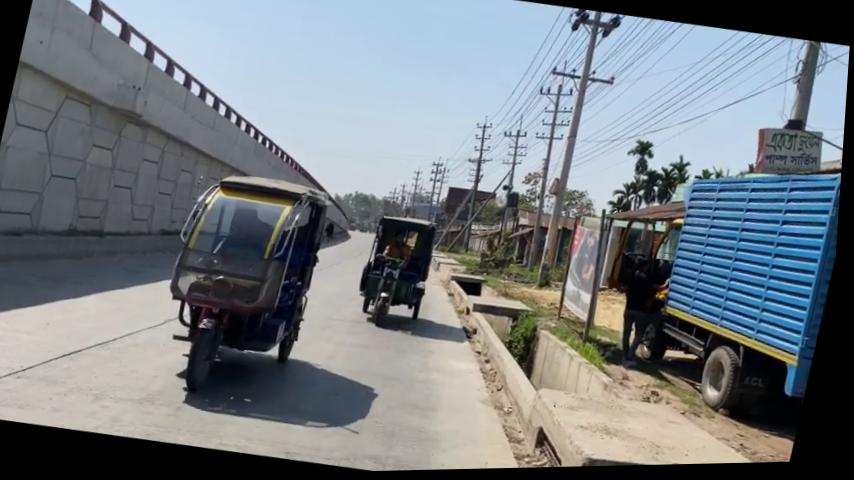Car: (494, 392, 616, 471)
Fallen-tree: (0, 0, 240, 291)
Fence: (605, 255, 679, 374)
Garbage: (514, 10, 627, 293), (535, 13, 608, 291), (576, 209, 621, 346)
Garbage-bin: (480, 307, 607, 412)
Muddy road: (354, 212, 444, 334)
Rickshaw: (149, 163, 365, 412)
